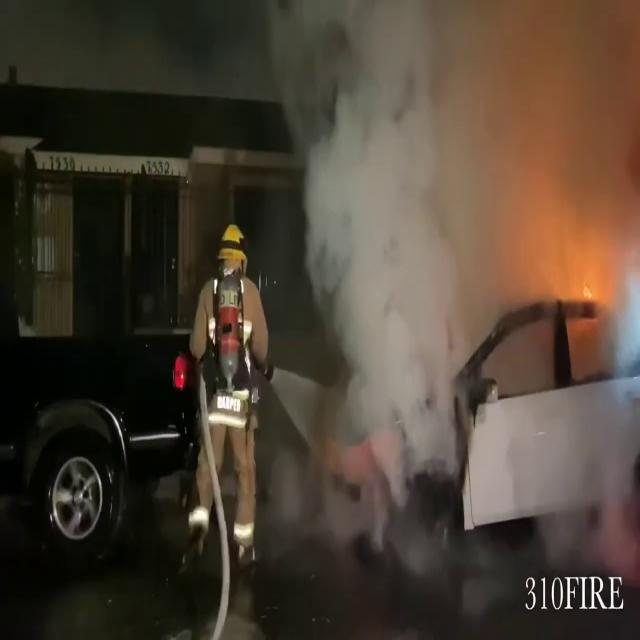Smoke: (255, 0, 640, 532)
